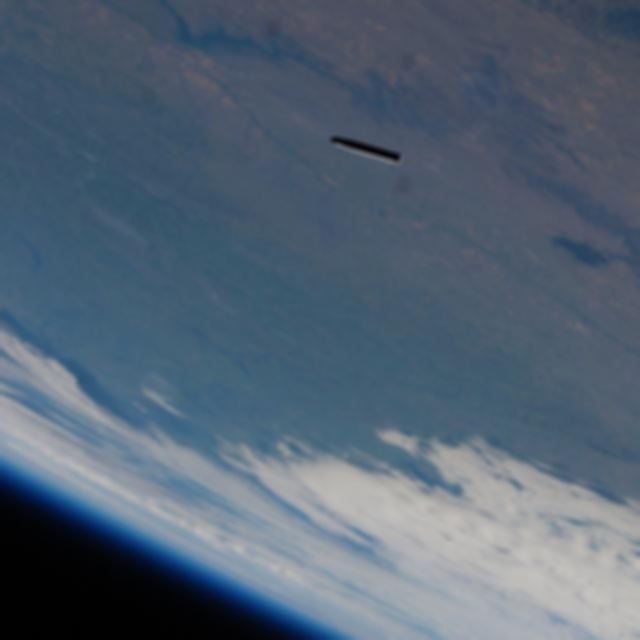rocket: (317, 127, 408, 174)
